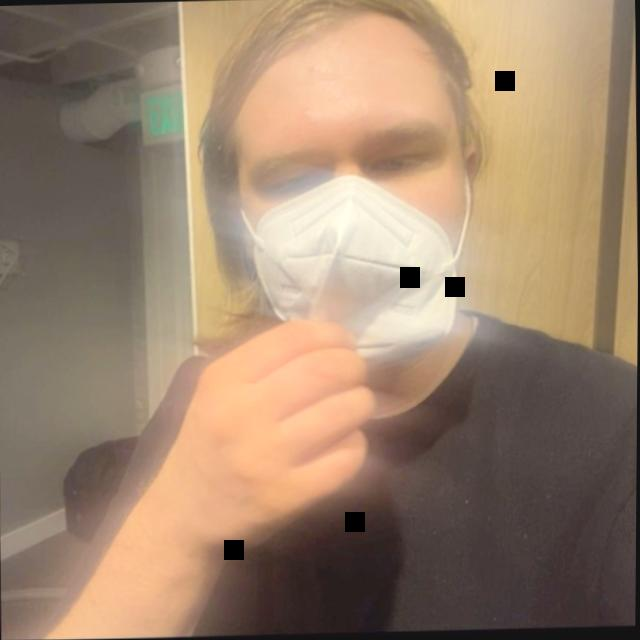Mask: (164, 0, 503, 344)
